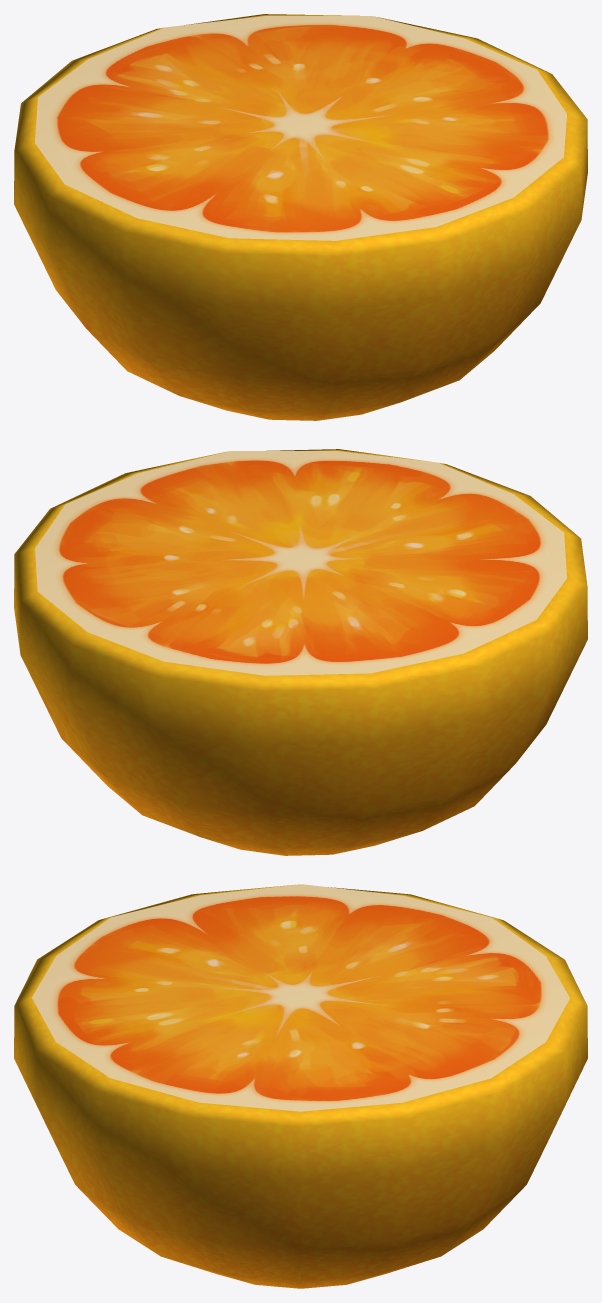
Rendered from Orange_Half.fbx.
3 views of the same model, one above another, from view 1: azimuth 30°, elevation 25°; view 2: azimuth 150°, elevation 25°; view 3: azimuth 270°, elevation 25° (orthographic).
Parts seen in each view (by area): view 1: Orange_Half; view 2: Orange_Half; view 3: Orange_Half.
Boxes of the visible parts, left/top/right/bottom form: Orange_Half: left=14, top=14, right=587, bottom=420; Orange_Half: left=14, top=449, right=587, bottom=855; Orange_Half: left=14, top=884, right=587, bottom=1288.
Size of the model in its own units: 27.68 by 14.13 by 27.68.
Materials: 1 (1 with a texture image).
